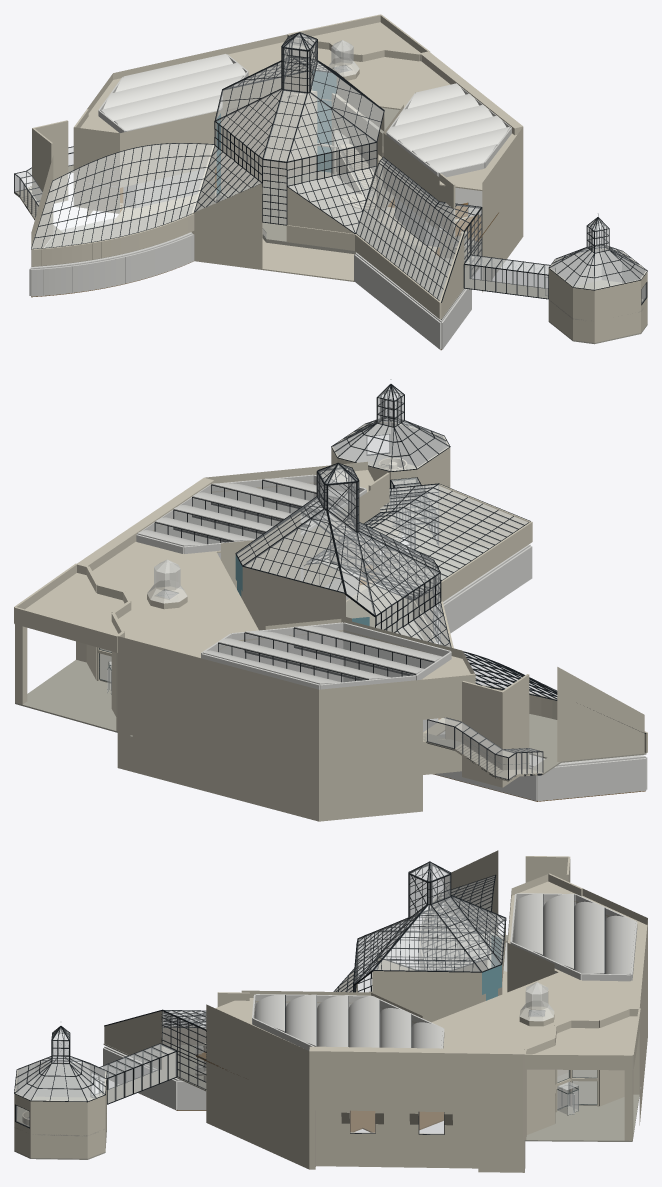
Rendered from MUDAM_R29_ALT_GALERI_MEKAN_v001_preview.glb.
3 views of the same model, one above another, from view 1: azimuth 30°, elevation 25°; view 2: azimuth 150°, elevation 25°; view 3: azimuth 270°, elevation 25° (orthographic). The views are drawn at different scales.
Parts seen in each view (by area): view 1: P05_MAIN_ROOF_DECK, P05_MAIN_ATRIUM_BASE_3, R28_W_HIGH_GALLERY_WALL, R07_STAIRWELL_STONE_NORTH, P05_FRONT_0, P05_FLOOR_L00_GH, P05_GALLERY_HALL_WEST2, R28_E_HIGH_GALLERY_WALL, R29_FOYER_FLOOR, P05_FLOOR_L00_EAST_GARDEN, R17_WALL_0, R29_E_BOUNDARY_00 (+41 smaller); view 2: P05_FRONT_9, P05_FRONT_10, P05_MAIN_ROOF_DECK, P05_WEST_END, P07_CANOPY_PAVING_DISPLAY, R29_W_BOUNDARY_32, R14_INNER_WALL_B, R11_STONE_END, P07_CANOPY_SLAB_ENVELOPE, P05_FLOOR_L00_EAST_GARDEN, R29_E_BOUNDARY_00, P06_HIGH_EAVE_UPSTAND_3 (+34 smaller); view 3: R27_CONTINUOUS_HEAD, P05_FRONT_0, P05_MAIN_ROOF_DECK, R17_WALL_6, P07_CANOPY_PAVING_DISPLAY, R27_END_PIER, P06_HIGH_EAVE_UPSTAND_5, P07_CANOPY_SLAB_ENVELOPE, P05_WEST_END, R24_SHELL_W_02, R11_STONE_END, R24_SHELL_W_01 (+37 smaller).
Part boxes in pixels (x1=…): P05_MAIN_ROOF_DECK: x1=76, y1=42, x2=520, y2=190; P05_MAIN_ATRIUM_BASE_3: x1=221, y1=91, x2=317, y2=191; R28_W_HIGH_GALLERY_WALL: x1=120, y1=110, x2=224, y2=187; R07_STAIRWELL_STONE_NORTH: x1=191, y1=183, x2=262, y2=269; P05_FRONT_0: x1=482, y1=127, x2=523, y2=292; P05_FLOOR_L00_GH: x1=216, y1=172, x2=386, y2=251; P05_GALLERY_HALL_WEST2: x1=73, y1=127, x2=119, y2=212; R28_E_HIGH_GALLERY_WALL: x1=383, y1=133, x2=439, y2=231; R29_FOYER_FLOOR: x1=194, y1=238, x2=354, y2=281; P05_FLOOR_L00_EAST_GARDEN: x1=357, y1=220, x2=482, y2=319; R17_WALL_0: x1=594, y1=279, x2=640, y2=342; R29_E_BOUNDARY_00: x1=354, y1=254, x2=441, y2=349; P05_FRONT_9: x1=117, y1=636, x2=318, y2=821; P05_FRONT_10: x1=319, y1=679, x2=422, y2=821; P05_MAIN_ROOF_DECK: x1=92, y1=470, x2=475, y2=699; P05_WEST_END: x1=557, y1=667, x2=644, y2=761; P07_CANOPY_PAVING_DISPLAY: x1=15, y1=660, x2=117, y2=732; R29_W_BOUNDARY_32: x1=537, y1=758, x2=646, y2=801; R14_INNER_WALL_B: x1=462, y1=681, x2=503, y2=787; R11_STONE_END: x1=439, y1=484, x2=530, y2=550; P07_CANOPY_SLAB_ENVELOPE: x1=25, y1=573, x2=124, y2=635; P05_FLOOR_L00_EAST_GARDEN: x1=346, y1=546, x2=492, y2=623; R29_E_BOUNDARY_00: x1=434, y1=546, x2=532, y2=643; P06_HIGH_EAVE_UPSTAND_3: x1=242, y1=567, x2=345, y2=618; R27_CONTINUOUS_HEAD: x1=309, y1=1046, x2=524, y2=1113; P05_FRONT_0: x1=206, y1=1004, x2=309, y2=1169; P05_MAIN_ROOF_DECK: x1=206, y1=881, x2=647, y2=1062; R17_WALL_6: x1=30, y1=1100, x2=87, y2=1158; P07_CANOPY_PAVING_DISPLAY: x1=524, y1=1094, x2=639, y2=1141; R27_END_PIER: x1=478, y1=1112, x2=525, y2=1172; P06_HIGH_EAVE_UPSTAND_5: x1=372, y1=971, x2=481, y2=994; P07_CANOPY_SLAB_ENVELOPE: x1=535, y1=1016, x2=637, y2=1054; P05_WEST_END: x1=444, y1=850, x2=498, y2=935; R24_SHELL_W_02: x1=574, y1=901, x2=604, y2=973; R11_STONE_END: x1=104, y1=1011, x2=163, y2=1069; R24_SHELL_W_01: x1=543, y1=893, x2=573, y2=969.
Bounding box in the file's own units: 80.52 × 35.94 × 93.32.
